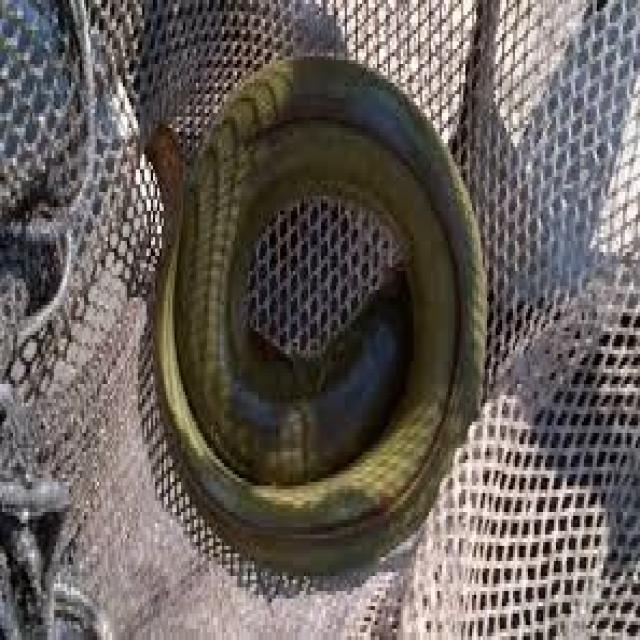Freshwater-Eel: (123, 16, 510, 566)
